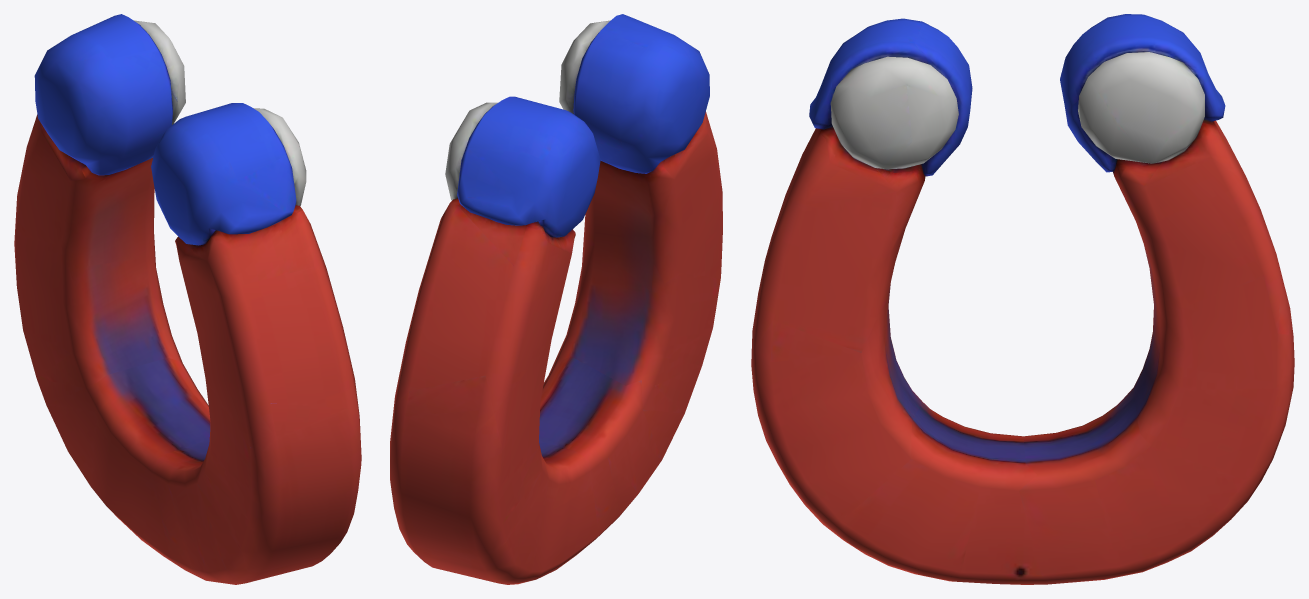
Rendered from skill-magnet.glb.
3 views of the same model, side by side, from view 1: azimuth 30°, elevation 25°; view 2: azimuth 150°, elevation 25°; view 3: azimuth 270°, elevation 25° (orthographic). The views are drawn at different scales.
Parts seen in each view (by area): view 1: tripo_node_bb12b94a-1541-4703-973b-36f59ca2ee0a; view 2: tripo_node_bb12b94a-1541-4703-973b-36f59ca2ee0a; view 3: tripo_node_bb12b94a-1541-4703-973b-36f59ca2ee0a.
Part boxes in pixels (x1=…): tripo_node_bb12b94a-1541-4703-973b-36f59ca2ee0a: x1=14, y1=14, x2=361, y2=584; tripo_node_bb12b94a-1541-4703-973b-36f59ca2ee0a: x1=390, y1=14, x2=722, y2=584; tripo_node_bb12b94a-1541-4703-973b-36f59ca2ee0a: x1=751, y1=14, x2=1294, y2=584.
Size of the model in its own units: 0.3184 by 0.998 by 0.9355.
Materials: 1 (1 with a texture image).
